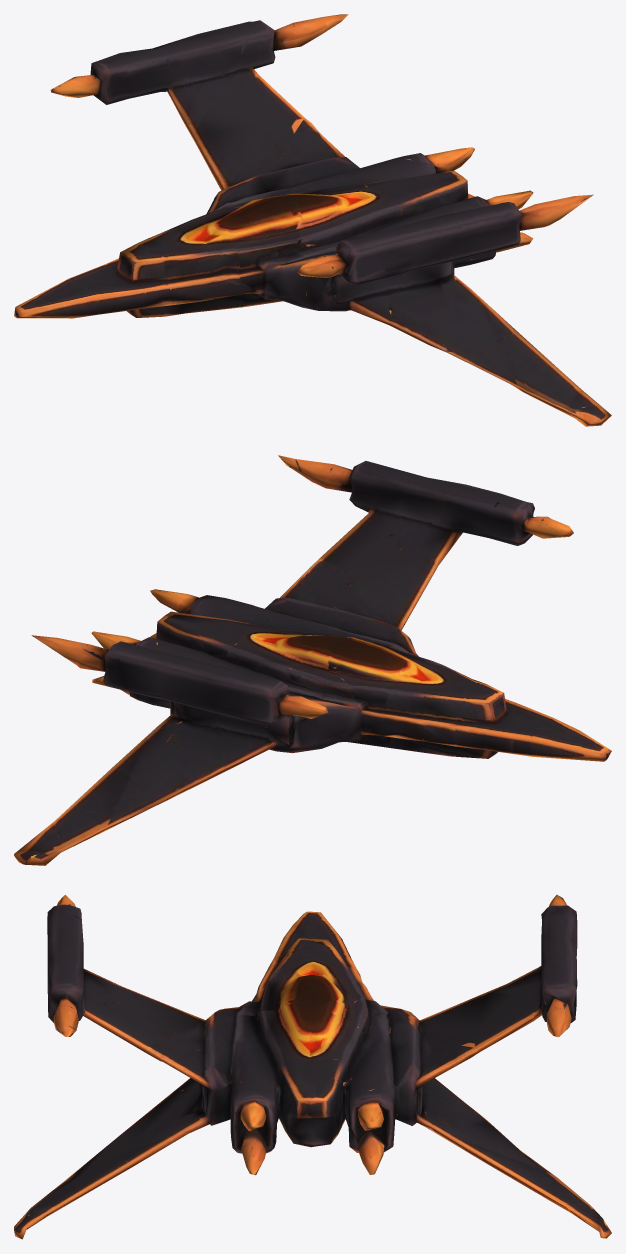
File: star-b.glb
The picture shows the model from 3 angles, top to bottom: view 1: azimuth 30°, elevation 25°; view 2: azimuth 150°, elevation 25°; view 3: azimuth 270°, elevation 25°; orthographic projection.
Visible parts, largest first — view 1: mesh_node; view 2: mesh_node; view 3: mesh_node.
Part boxes in pixels (x1,y1,x2,y2): mesh_node: [14, 14, 611, 426]; mesh_node: [14, 455, 611, 865]; mesh_node: [14, 894, 611, 1239].
Size of the model in its own units: 1.79 by 0.7727 by 1.9.
Materials: 1 (1 with a texture image).
